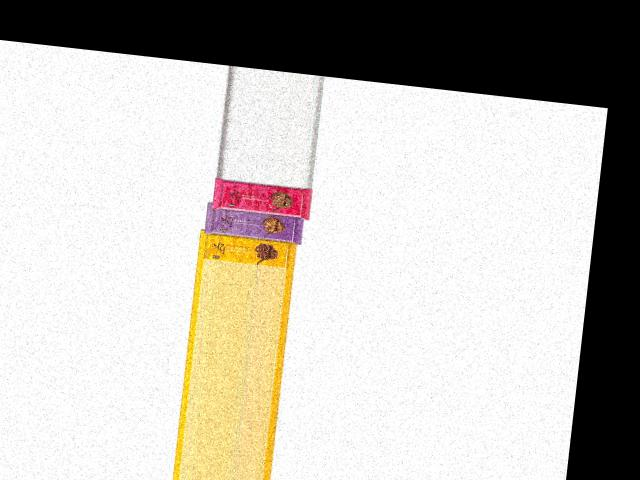chocolate: (207, 176, 318, 220)
